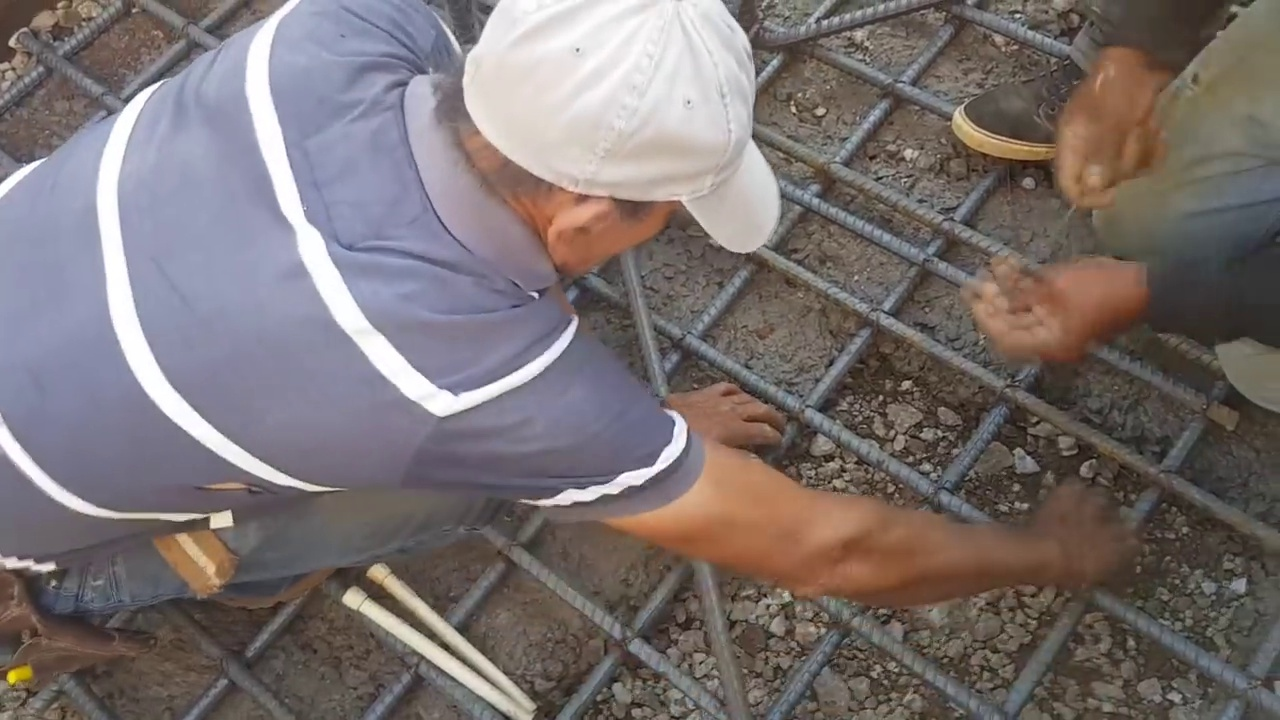helmet-off: (416, 0, 790, 278)
person: (0, 0, 1142, 616), (964, 0, 1280, 412)
